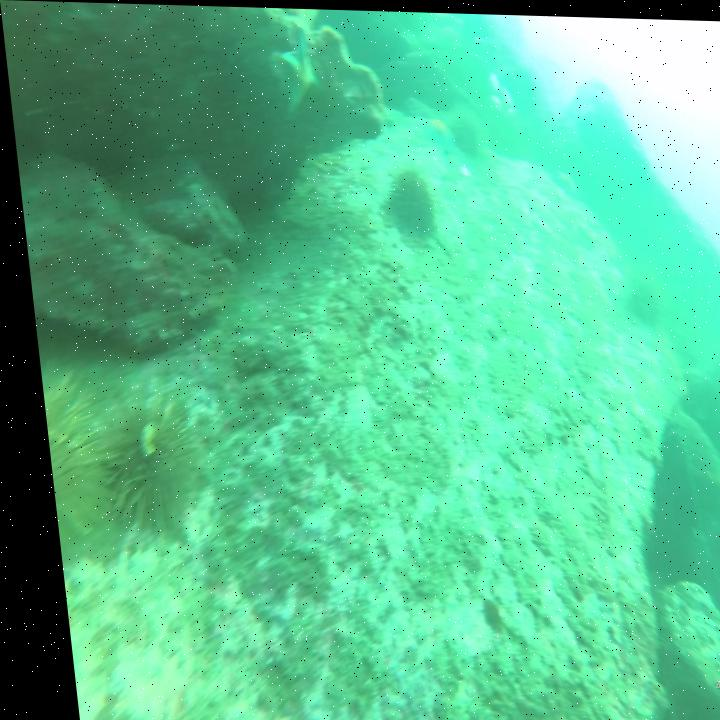echinus: (84, 391, 203, 538), (32, 367, 101, 546), (382, 163, 435, 243), (620, 269, 658, 328), (448, 108, 478, 155)
